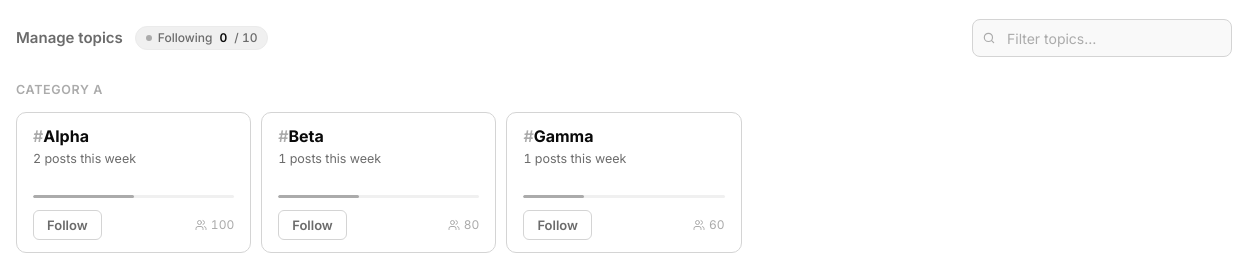
Test: ManageTopics › (MT-6) search matches by slug (name) too
Step 1. Type "gamma" into the field with placeholder "Filter topics…" → (1102, 38), box [972,19,1232,57]
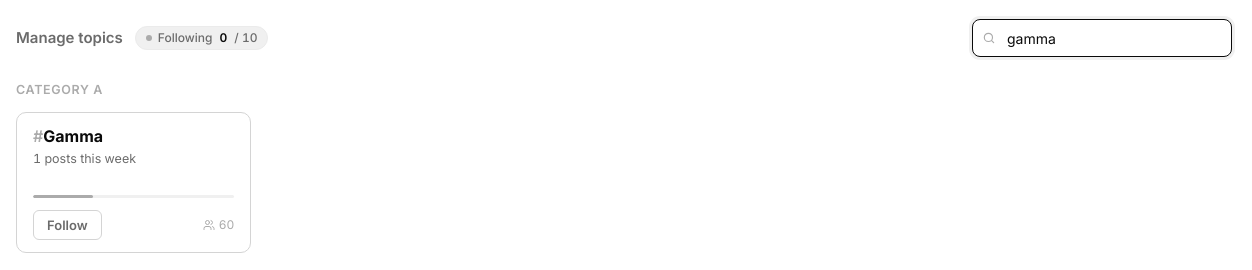
Expected: the text "Gamma" is shown, [43,126,103,146]
Expected: the text "Alpha" is gone
